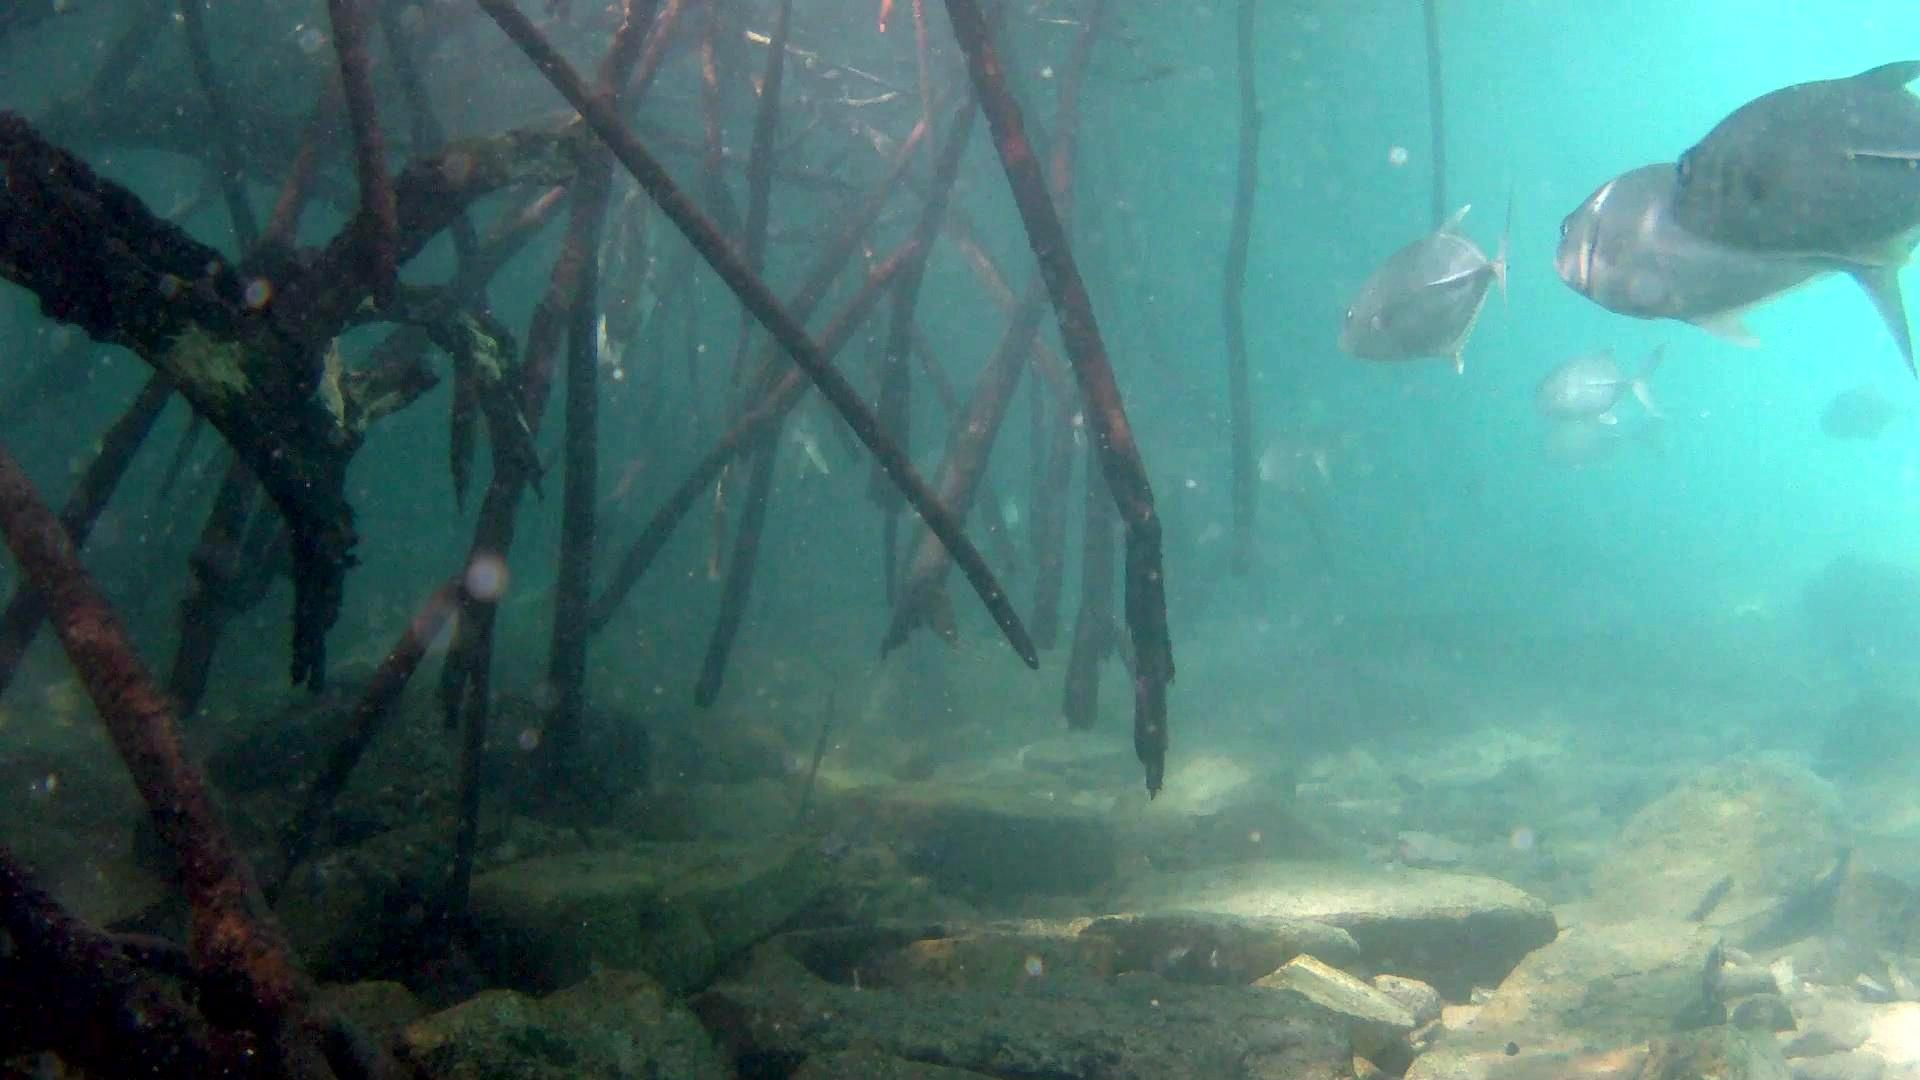caranx: (1545, 158, 1920, 367), (1658, 50, 1920, 263), (1335, 188, 1535, 388)
